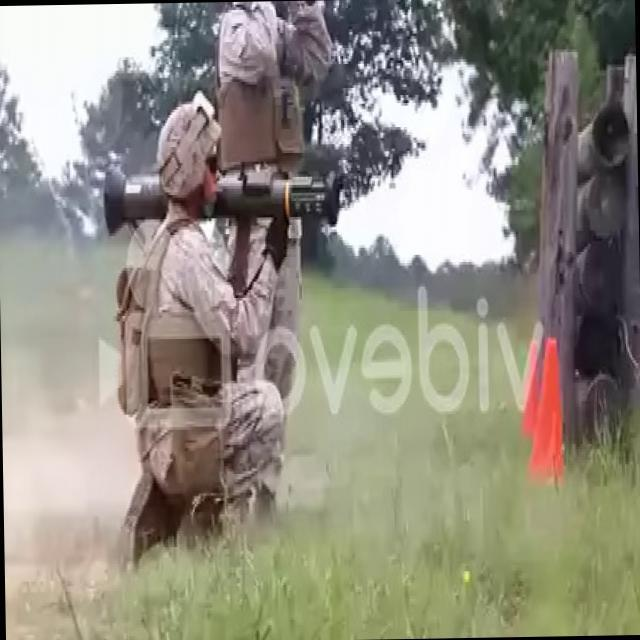rocket: (103, 160, 344, 227)
